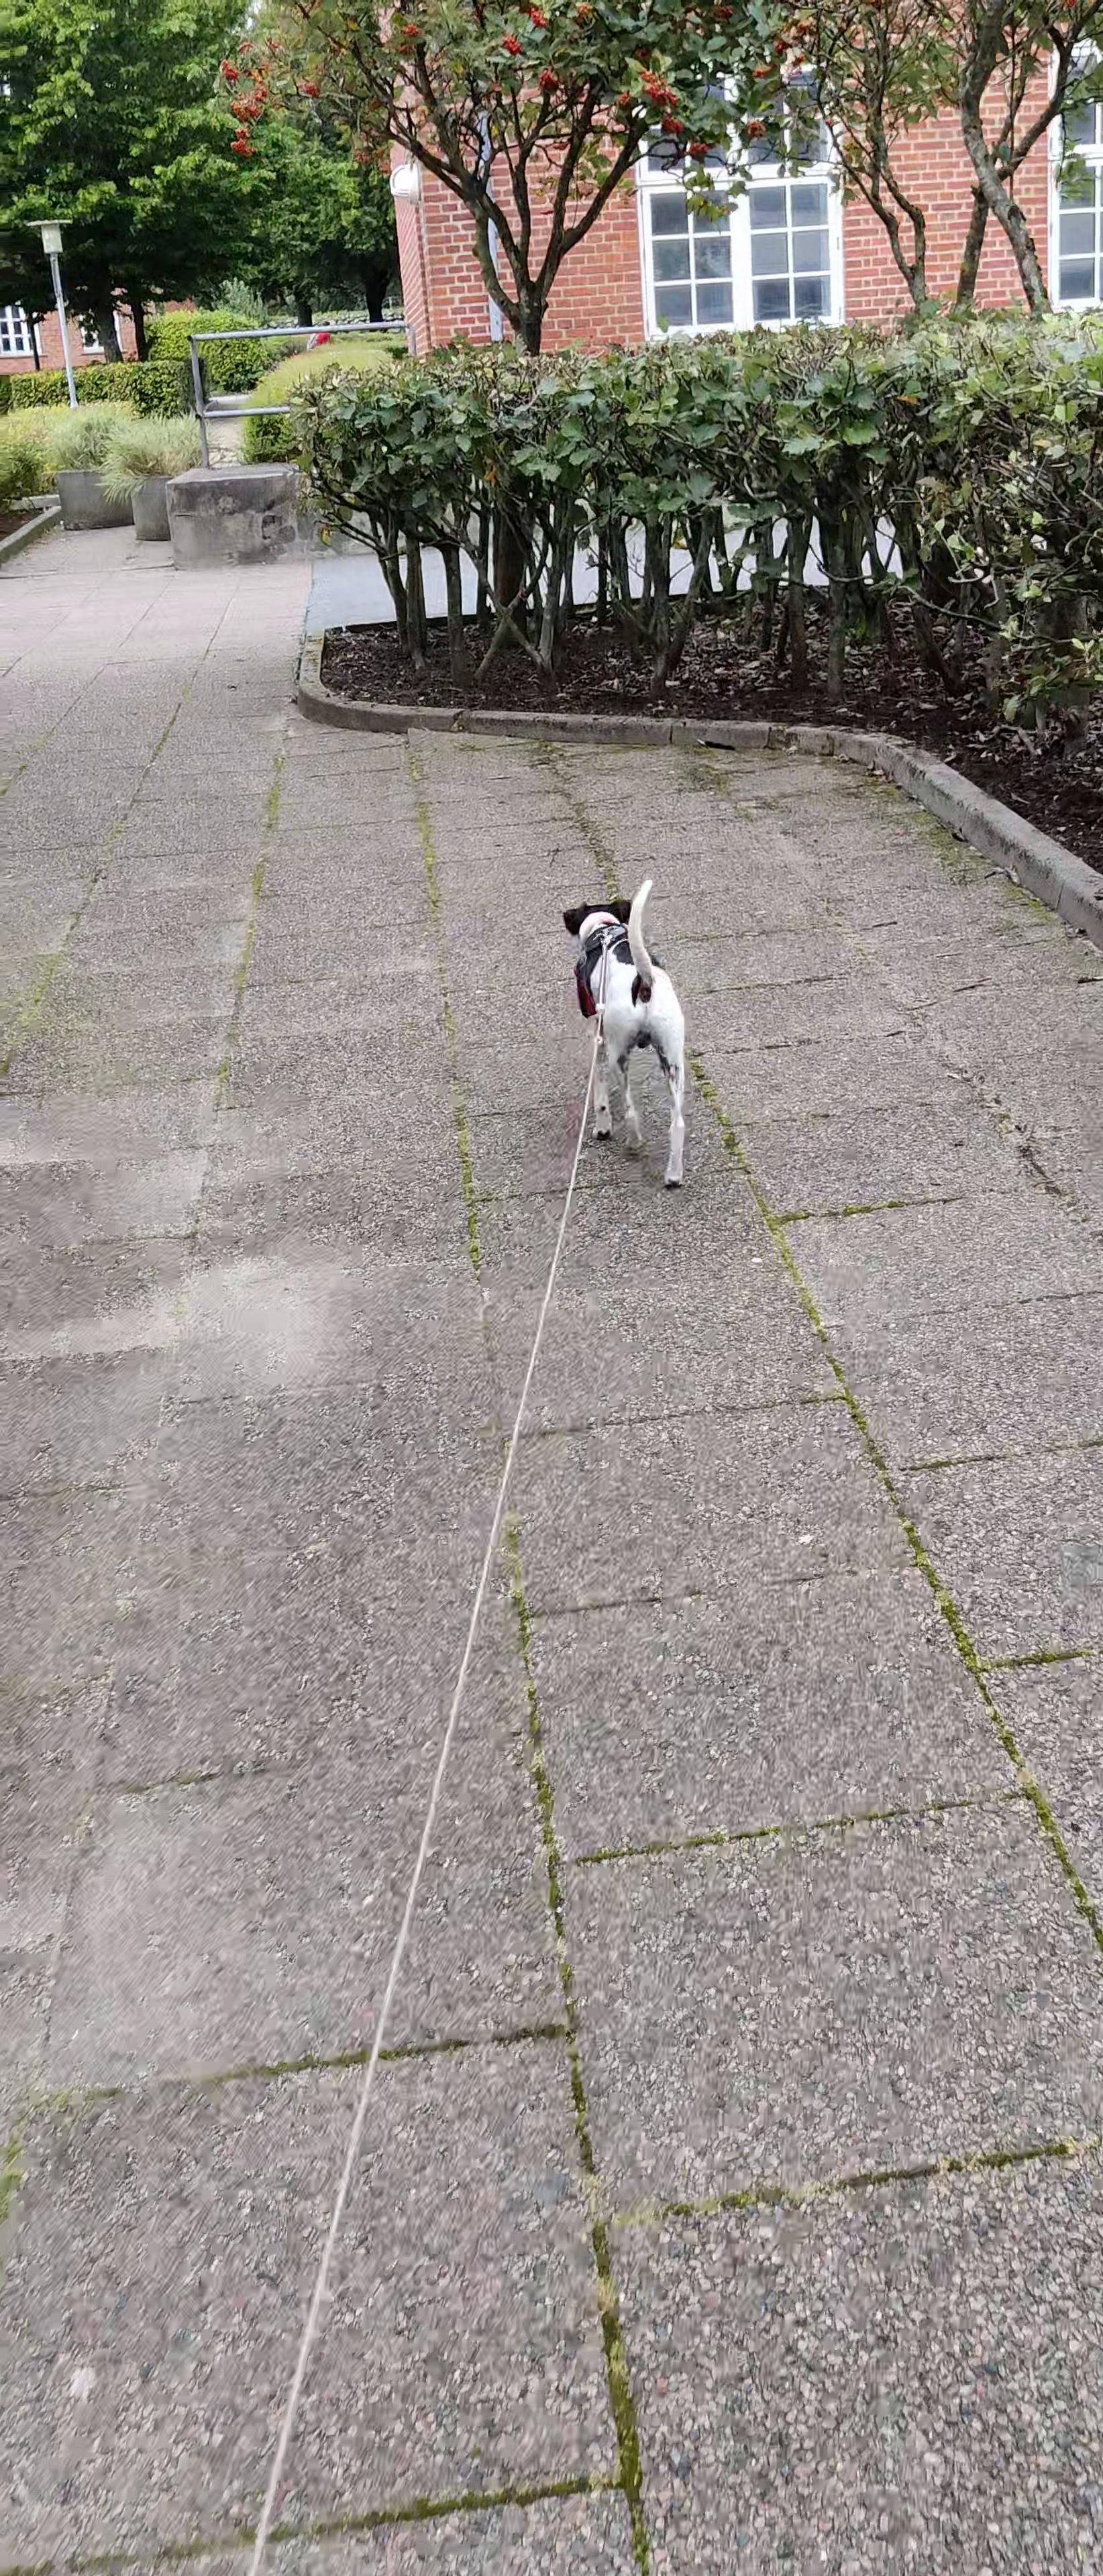Dog: (552, 871, 694, 1193)
